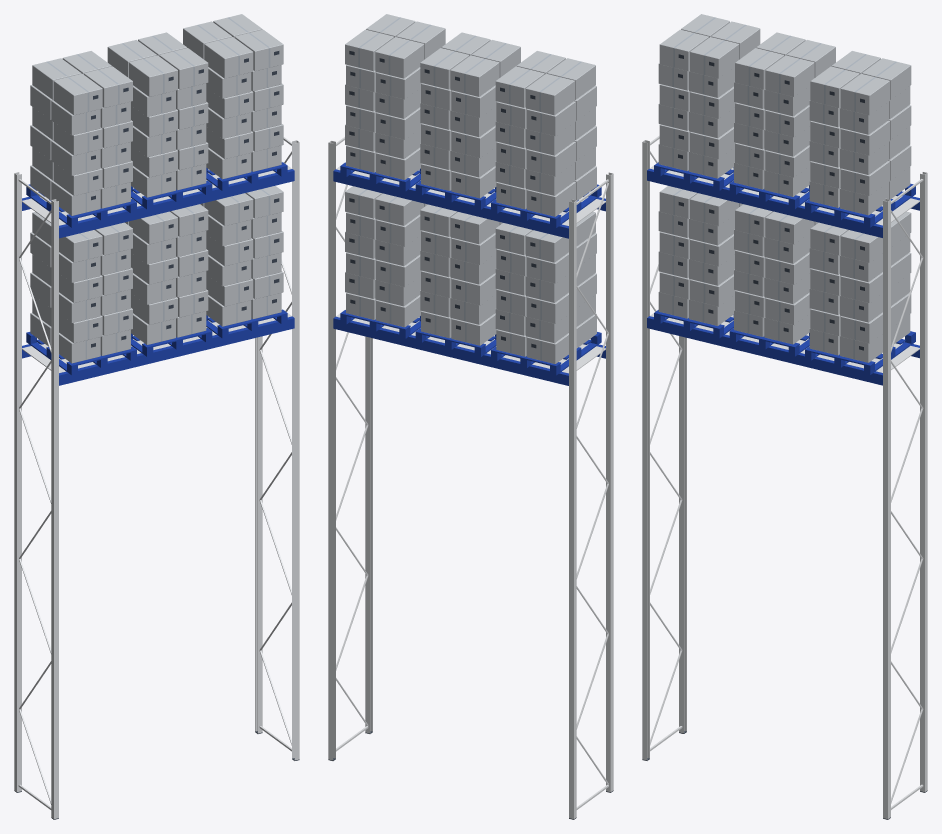
The model's file is SM_MPR_CADRack_F7_W144_Passage.fbx.
The picture shows the model from 3 angles, left to right: view 1: azimuth 30°, elevation 25°; view 2: azimuth 150°, elevation 25°; view 3: azimuth 330°, elevation 25°; orthographic projection.
Visible parts, largest first — view 1: SM_MPR_CADRack_F7_W144_Passage; view 2: SM_MPR_CADRack_F7_W144_Passage; view 3: SM_MPR_CADRack_F7_W144_Passage.
Part boxes in pixels (x1,y1,x2,y2): SM_MPR_CADRack_F7_W144_Passage: [14, 14, 299, 819]; SM_MPR_CADRack_F7_W144_Passage: [328, 14, 613, 819]; SM_MPR_CADRack_F7_W144_Passage: [642, 14, 927, 819].
Bounding box in the file's own units: 381 × 122 × 1068.
